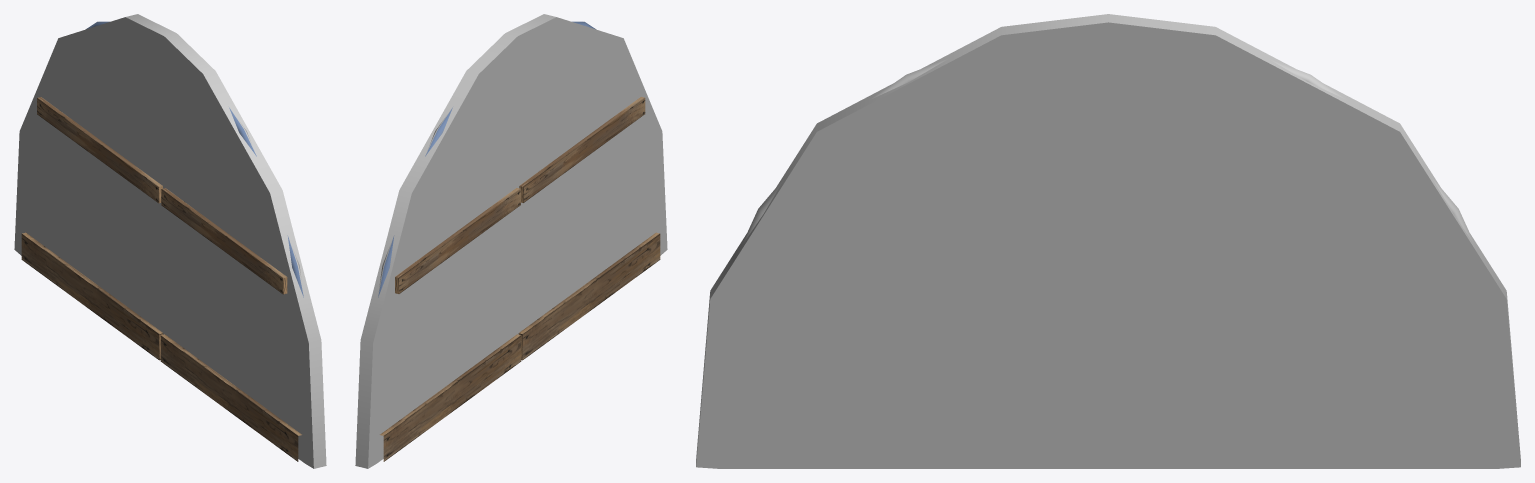
Rendered from greenHouse_back.fbx.
3 views of the same model, side by side, from view 1: azimuth 30°, elevation 25°; view 2: azimuth 150°, elevation 25°; view 3: azimuth 270°, elevation 25° (orthographic). The views are drawn at different scales.
Parts seen in each view (by area): view 1: greenHouse_back_COL, greenHouse_back; view 2: greenHouse_back_COL, greenHouse_back; view 3: greenHouse_back_COL, greenHouse_back.
Part boxes in pixels (x1,y1,x2,y2): greenHouse_back_COL: (14, 14, 326, 468); greenHouse_back: (21, 21, 303, 461); greenHouse_back_COL: (355, 14, 667, 468); greenHouse_back: (378, 21, 660, 461); greenHouse_back_COL: (696, 14, 1520, 468); greenHouse_back: (741, 59, 1475, 246).
Size of the model in its own units: 16.92 by 311 by 520.
